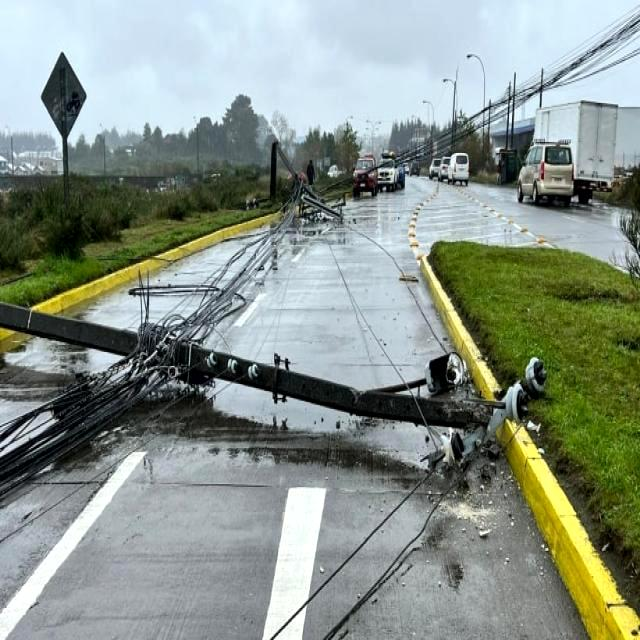Broken Pole: (0, 288, 550, 477)
